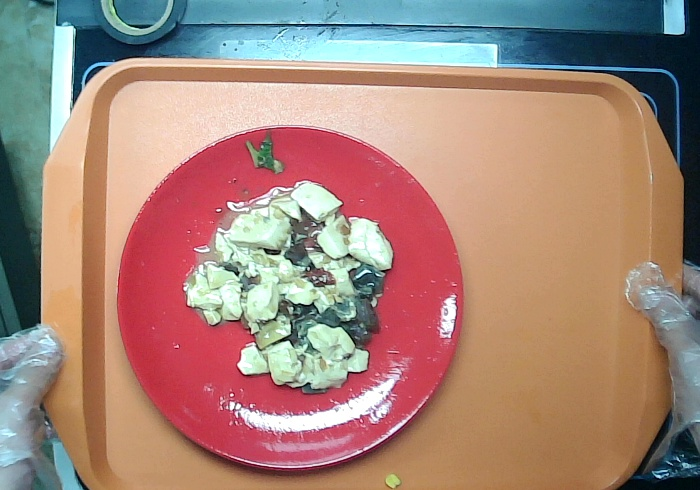HZYJPL-Hong_Se_Yuan_Pan: (117, 124, 463, 472)
